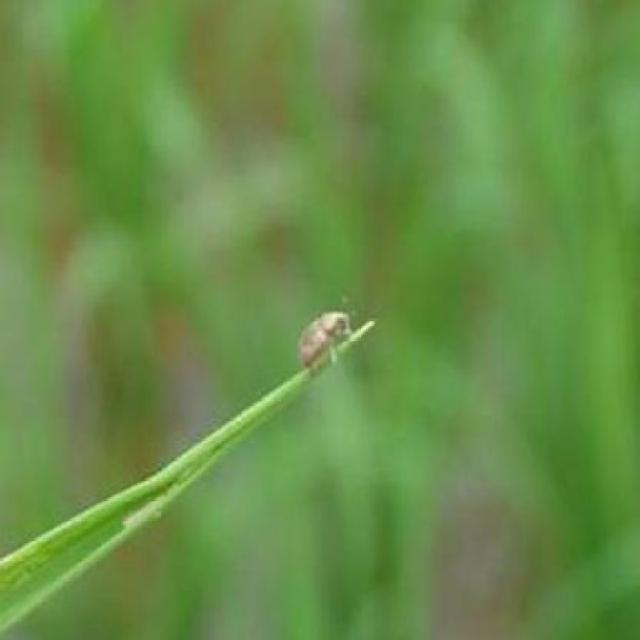rice-bug: (297, 305, 357, 378)
